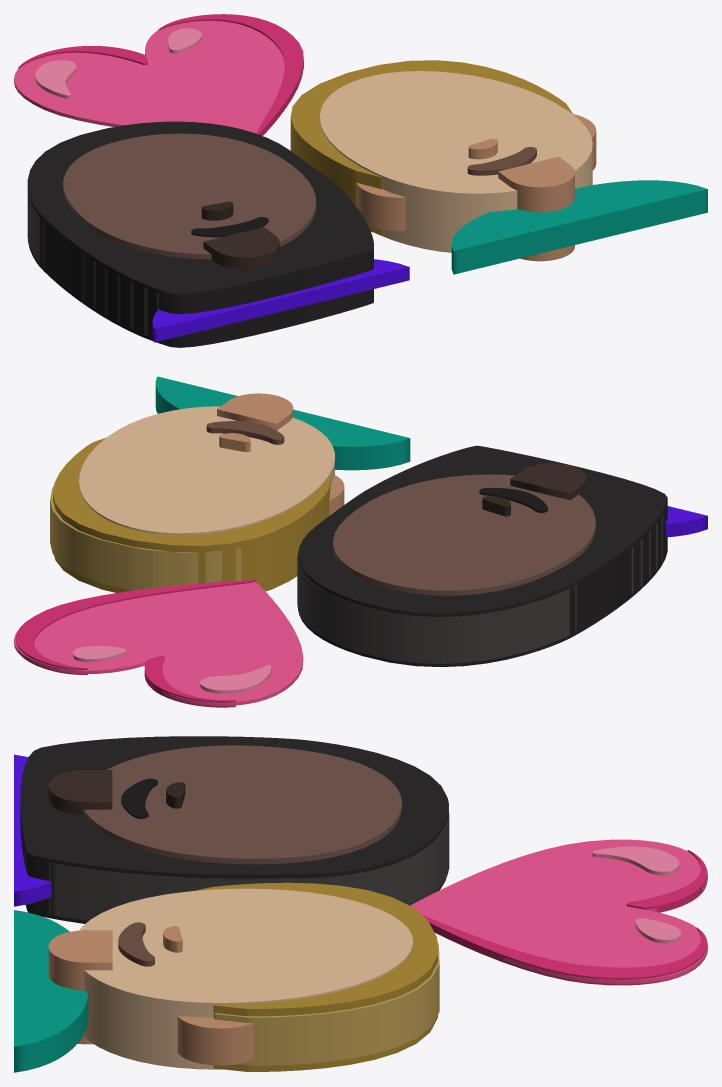
Rendered from emoji_u1f469_1f3ff_200d_2764_200d_1f468_1f3fc.glb.
The picture shows the model from 3 angles, top to bottom: view 1: azimuth 30°, elevation 25°; view 2: azimuth 150°, elevation 25°; view 3: azimuth 270°, elevation 25°; orthographic projection. The views are drawn at different scales.
Visible parts, largest first — view 1: emoji_u1f469_1f3ff_200d_2764_200d_1f468_1f3fc; view 2: emoji_u1f469_1f3ff_200d_2764_200d_1f468_1f3fc; view 3: emoji_u1f469_1f3ff_200d_2764_200d_1f468_1f3fc.
Part boxes in pixels (x1,y1,x2,y2): emoji_u1f469_1f3ff_200d_2764_200d_1f468_1f3fc: (14,14,707,347); emoji_u1f469_1f3ff_200d_2764_200d_1f468_1f3fc: (14,376,707,707); emoji_u1f469_1f3ff_200d_2764_200d_1f468_1f3fc: (14,736,707,1072).
Bounding box in the file's own units: 0.0345 × 0.005 × 0.0339.
